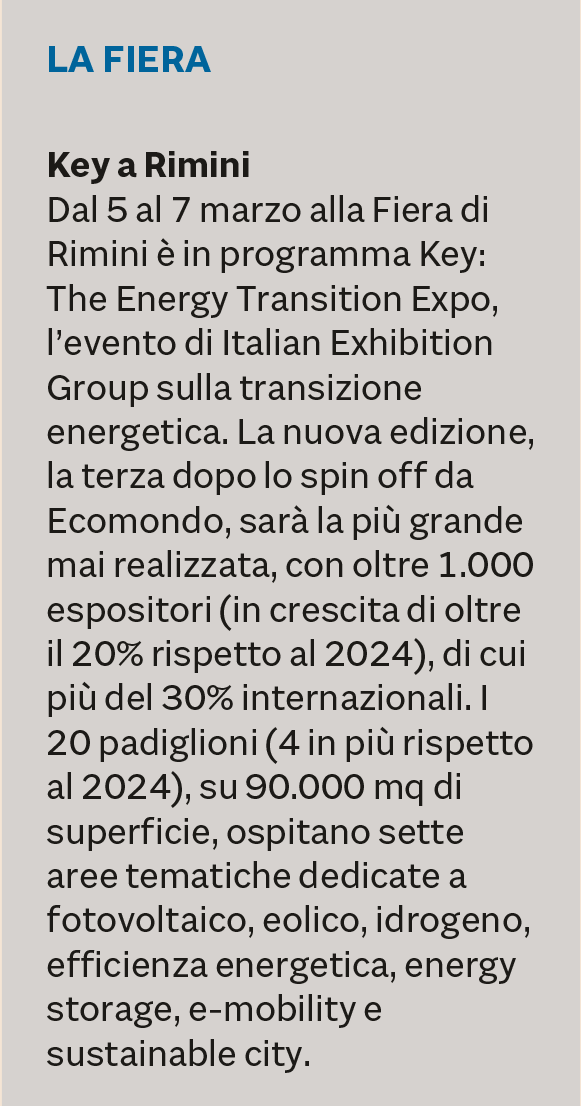scheda-testo-2.1: (15, 12, 570, 1094)
